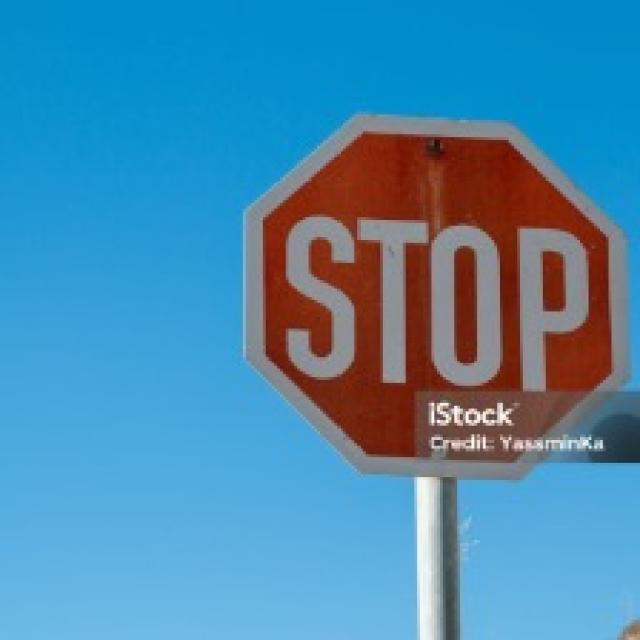stop: (241, 111, 630, 481)
